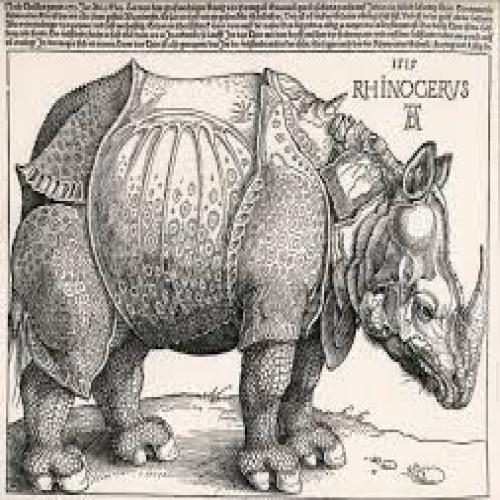rhino-endangered: (14, 70, 484, 490)
